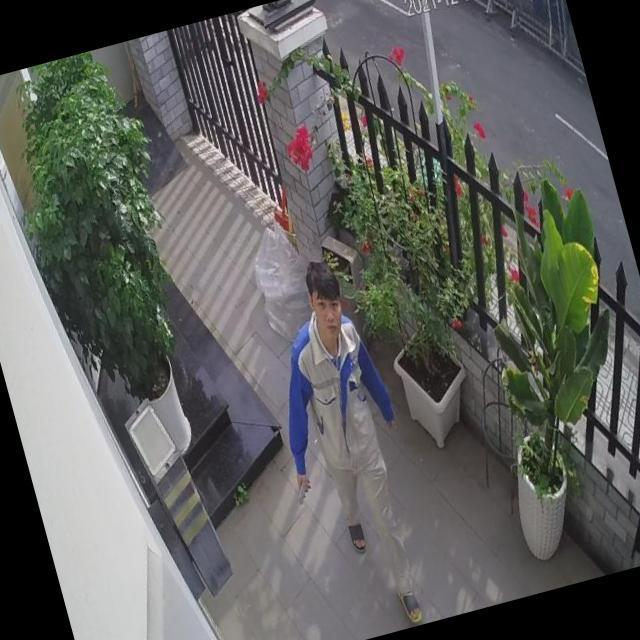person: (241, 250, 448, 640)
